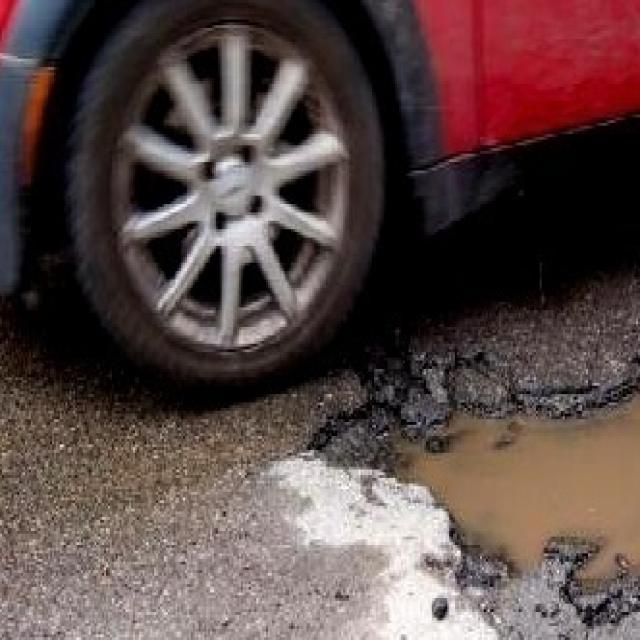road-pothole: (304, 382, 638, 610)
